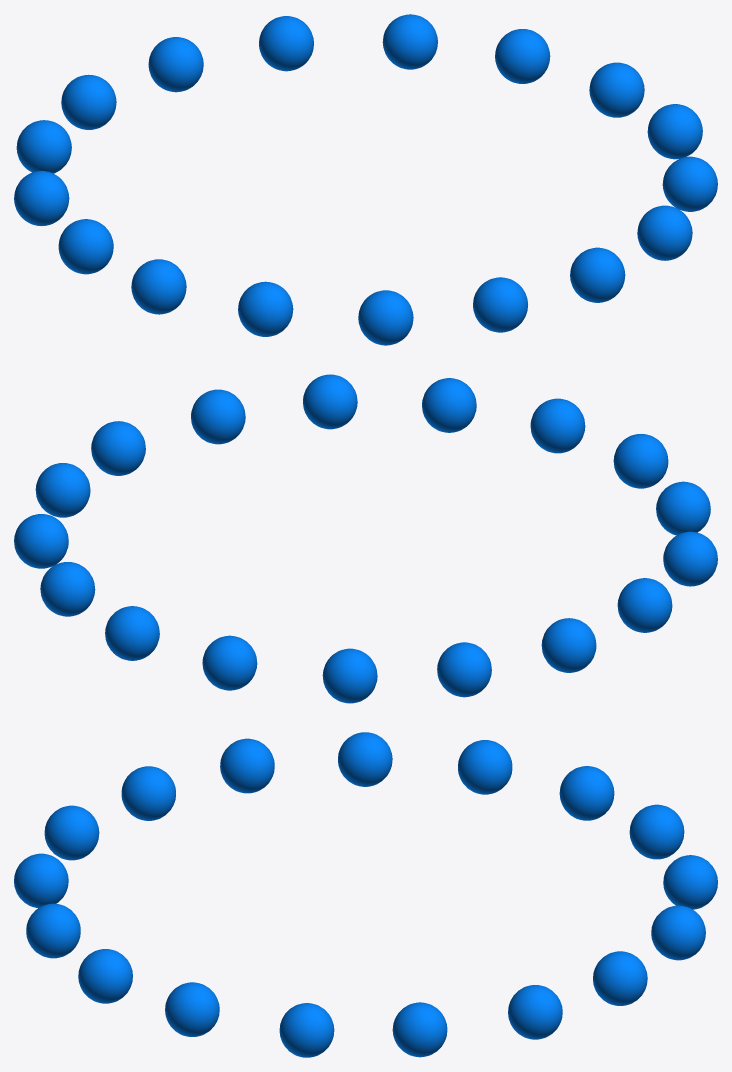
The picture shows the model from 3 angles, top to bottom: view 1: azimuth 30°, elevation 25°; view 2: azimuth 150°, elevation 25°; view 3: azimuth 270°, elevation 25°; orthographic projection.
Visible parts, largest first — view 1: Sphere047; view 2: Sphere047; view 3: Sphere047.
Part boxes in pixels (x1=…): Sphere047: x1=14, y1=14, x2=717, y2=345; Sphere047: x1=14, y1=374, x2=717, y2=703; Sphere047: x1=14, y1=732, x2=717, y2=1057.
Size of the model in its own units: 104 by 8.22 by 105.
